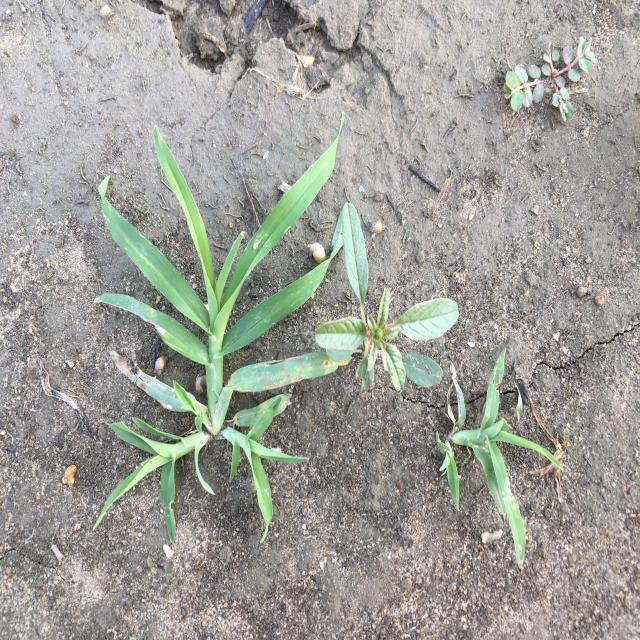Goosegrass: (88, 109, 346, 545), (434, 347, 565, 571)
SpottedSpurge: (499, 32, 600, 126)
Waterhemp: (314, 200, 459, 395)
